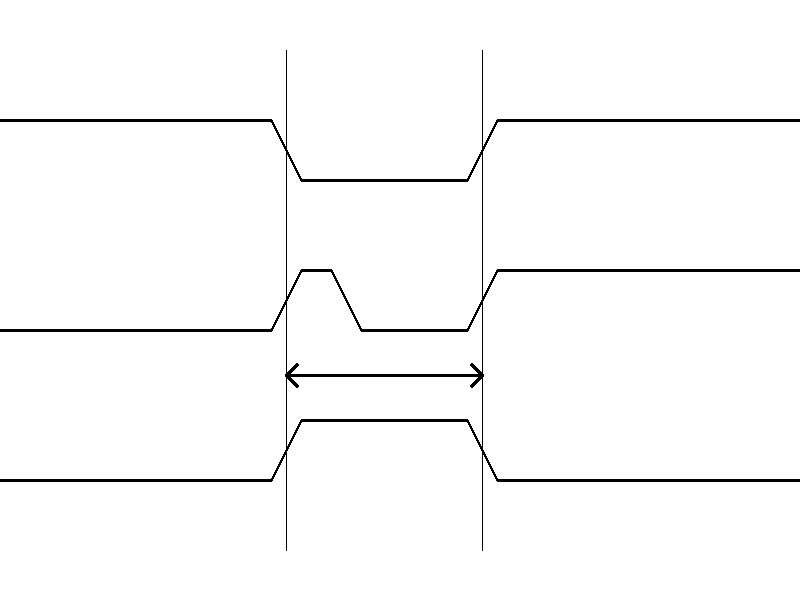double_arrow: (286, 360, 482, 390)
